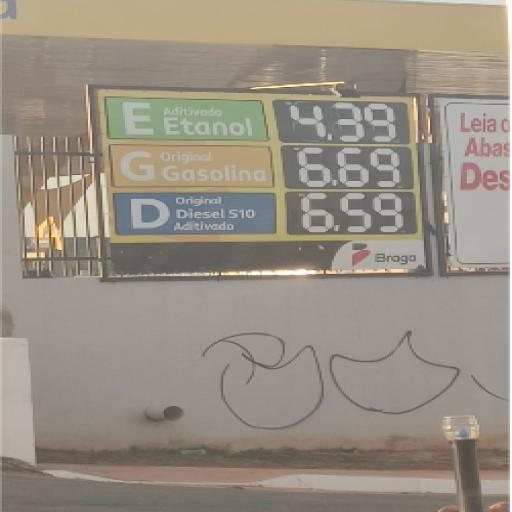ETANOL: (104, 97, 267, 144)
GASOLINA C: (108, 150, 279, 186)
S10: (112, 194, 277, 239)
placa: (93, 87, 426, 274)
preco: (292, 190, 414, 238), (283, 101, 420, 143), (286, 150, 408, 188)
